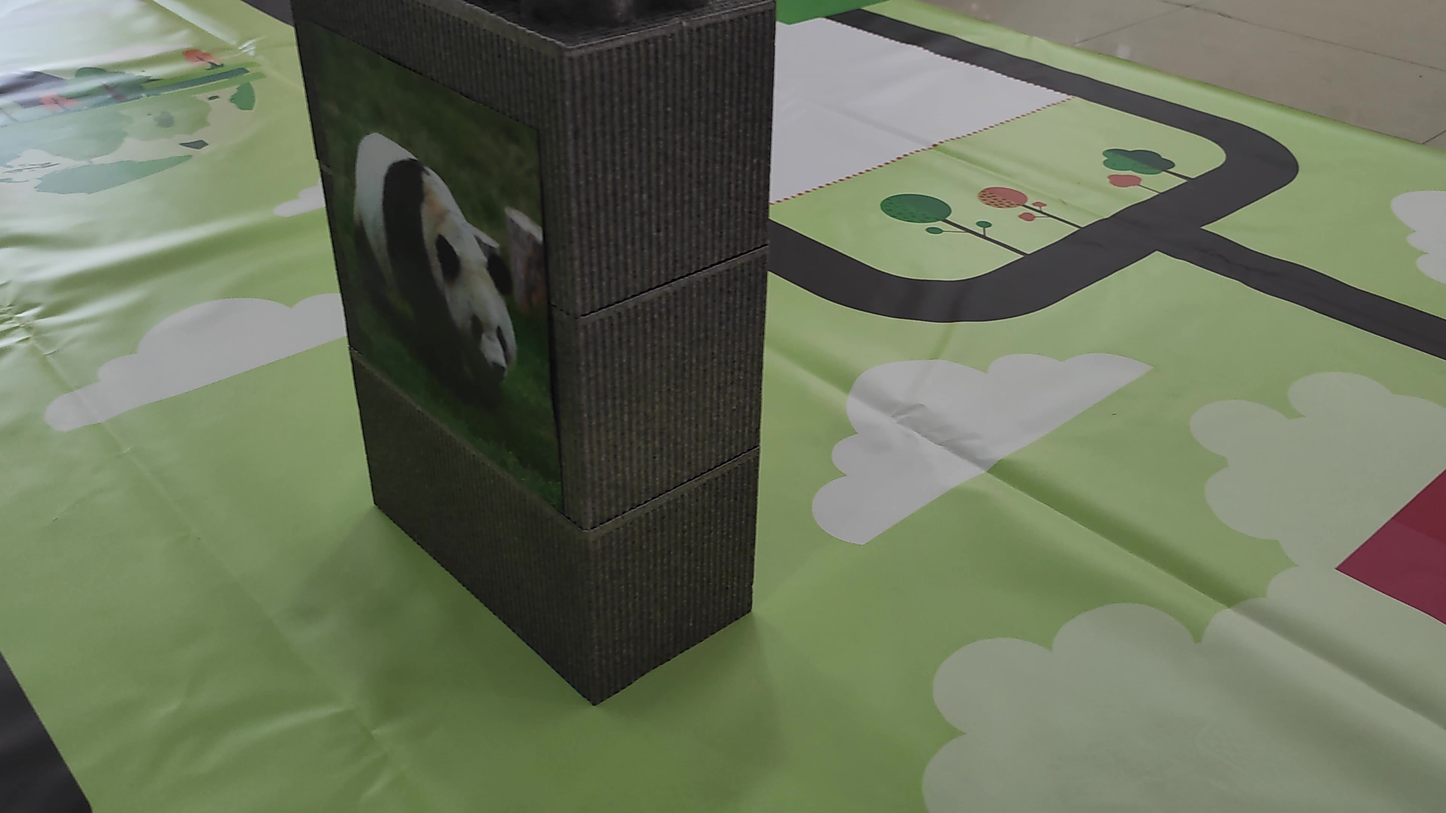panda: (325, 104, 541, 452)
